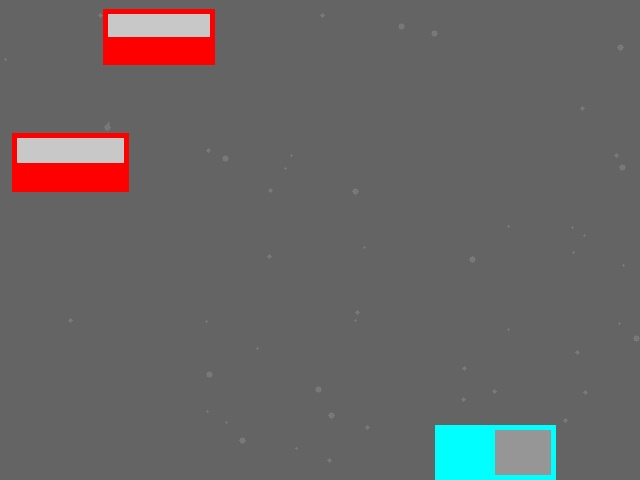car: (12, 133, 128, 191), (103, 9, 214, 64)
truck: (435, 425, 555, 479)
